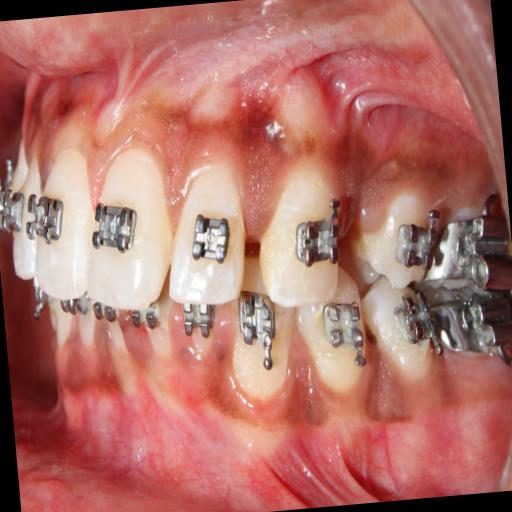correct_brace: (286, 194, 347, 272), (186, 208, 236, 271)
incorrect_brace: (156, 145, 252, 310)
